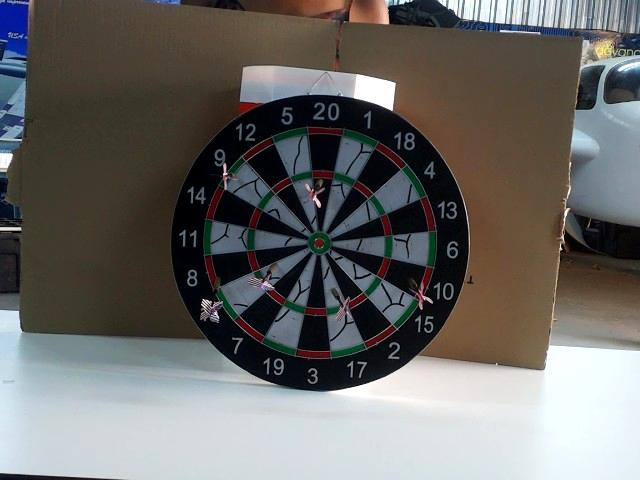single_10: (385, 262, 426, 298)
single_16: (262, 251, 309, 285)
single_20: (311, 182, 330, 232)
single_9: (229, 165, 271, 206), (212, 253, 255, 287)
